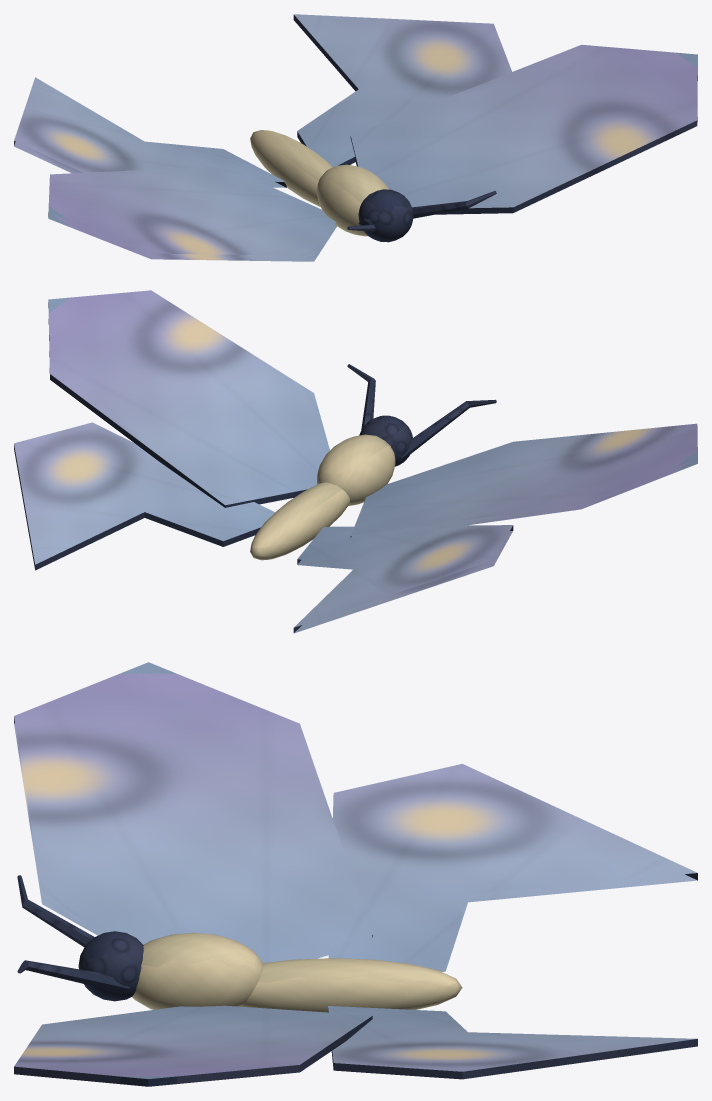
Rendered from forest_moon_moth.glb.
3 renders of one model, top to bottom at view 1: azimuth 30°, elevation 25°; view 2: azimuth 150°, elevation 25°; view 3: azimuth 270°, elevation 25°, orthographic. The views are drawn at different scales.
Parts seen in each view (by area): view 1: Painted butterfly wing.010, Painted butterfly wing.008, Painted butterfly wing.011, Painted butterfly wing.009, Velvet insect abdomen.002, Velvet insect thorax.002, Insect head.002, Curled butterfly antenna.005; view 2: Painted butterfly wing.010, Painted butterfly wing.008, Painted butterfly wing.011, Painted butterfly wing.009, Velvet insect abdomen.002, Velvet insect thorax.002, Insect head.002, Curled butterfly antenna.004, Curled butterfly antenna.005; view 3: Painted butterfly wing.008, Painted butterfly wing.009, Painted butterfly wing.010, Painted butterfly wing.011, Velvet insect abdomen.002, Velvet insect thorax.002, Insect head.002, Curled butterfly antenna.005, Curled butterfly antenna.004.
Part boxes in pixels (x1,y1,x2,y2): Painted butterfly wing.010: (350,44,697,214); Painted butterfly wing.008: (48,166,336,261); Painted butterfly wing.011: (293,14,511,166); Painted butterfly wing.009: (14,77,286,187); Velvet insect abdomen.002: (250,130,332,206); Velvet insect thorax.002: (317,164,388,236); Insect head.002: (358,189,413,242); Curled butterfly antenna.005: (412,191,496,218); Painted butterfly wing.010: (48,290,329,507); Painted butterfly wing.008: (350,423,697,537); Painted butterfly wing.011: (14,422,274,570); Painted butterfly wing.009: (293,525,513,633); Velvet insect abdomen.002: (250,482,350,560); Velvet insect thorax.002: (317,434,395,505); Insect head.002: (359,415,412,466); Curled butterfly antenna.004: (401,399,496,460); Curled butterfly antenna.005: (347,364,375,429); Painted butterfly wing.008: (14,662,372,962); Painted butterfly wing.009: (328,764,697,971); Painted butterfly wing.010: (14,1005,372,1086); Painted butterfly wing.011: (328,1006,697,1079); Velvet insect abdomen.002: (241,958,462,1012); Velvet insect thorax.002: (132,932,263,1009); Insect head.002: (78,931,143,1001); Curled butterfly antenna.005: (17,960,129,993); Curled butterfly antenna.004: (17,875,94,947).
Size of the model in its own units: 1.76 by 0.2822 by 1.22.
Materials: 3 (3 with a texture image).
